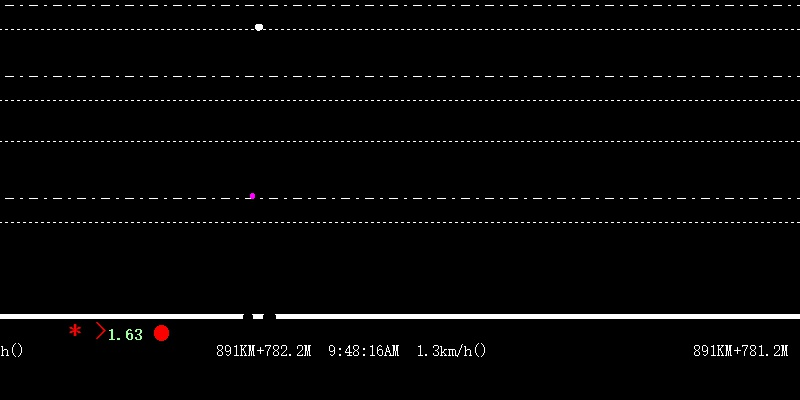circle: (151, 323, 169, 342)
face_1: (254, 22, 264, 32)
star: (66, 321, 83, 339)
